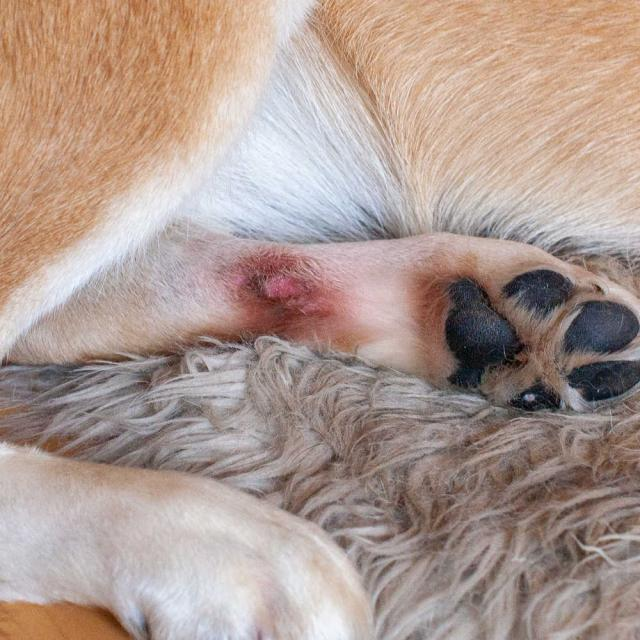viem da do vi khuan (cho): (52, 76, 572, 464)
